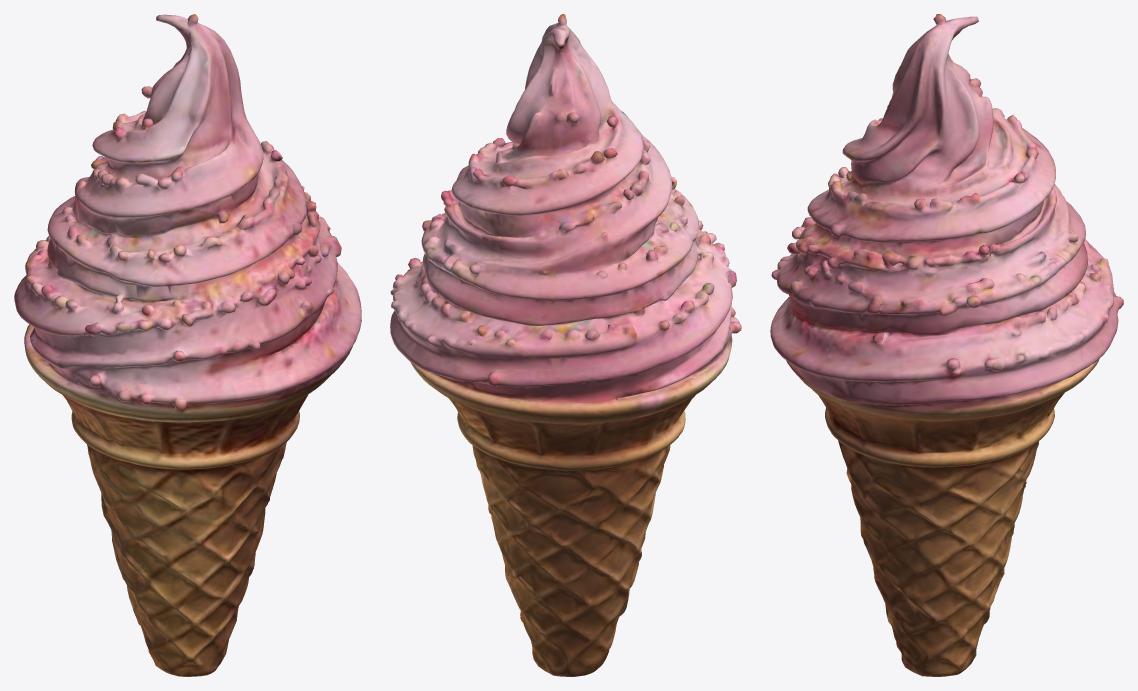
3 renders of one model, left to right at view 1: azimuth 30°, elevation 25°; view 2: azimuth 150°, elevation 25°; view 3: azimuth 270°, elevation 25°, orthographic.
Size of the model in its own units: 0.9682 by 1.99 by 0.9773.
1 material, 1 textured.
